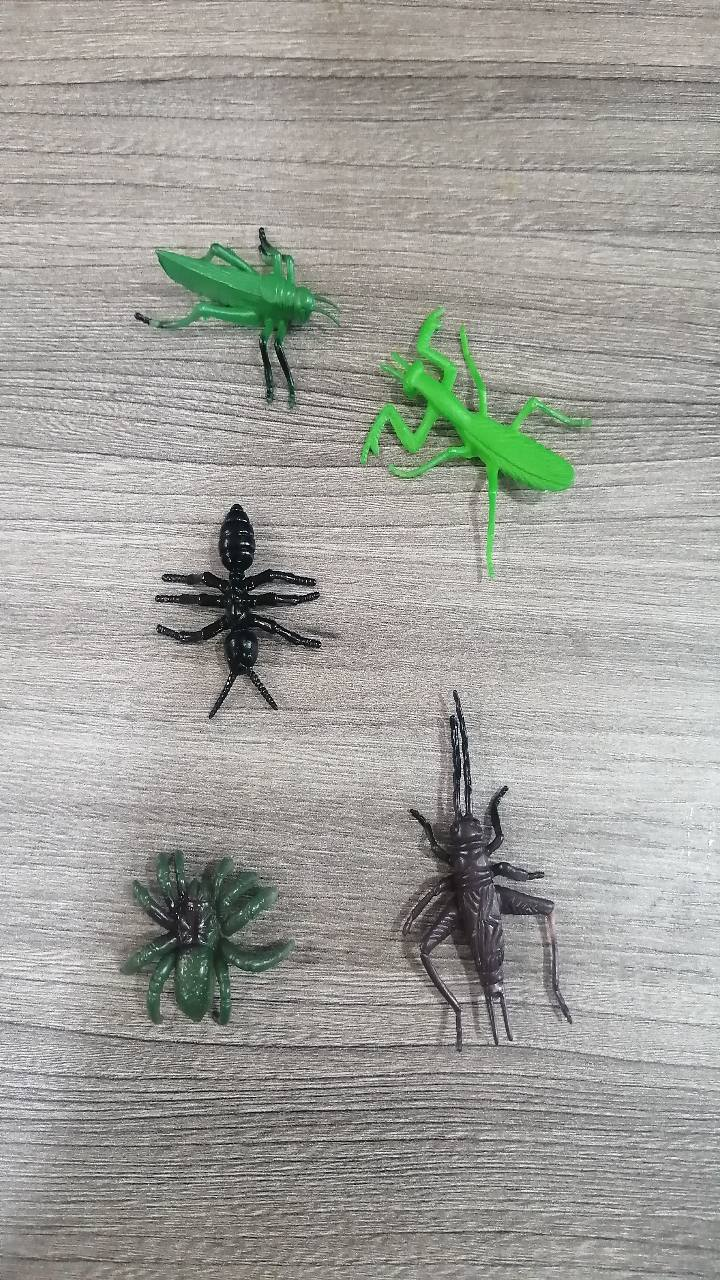intruso: (371, 649, 601, 1057), (335, 263, 601, 609), (124, 454, 341, 735), (114, 186, 348, 429), (106, 805, 304, 1065)
